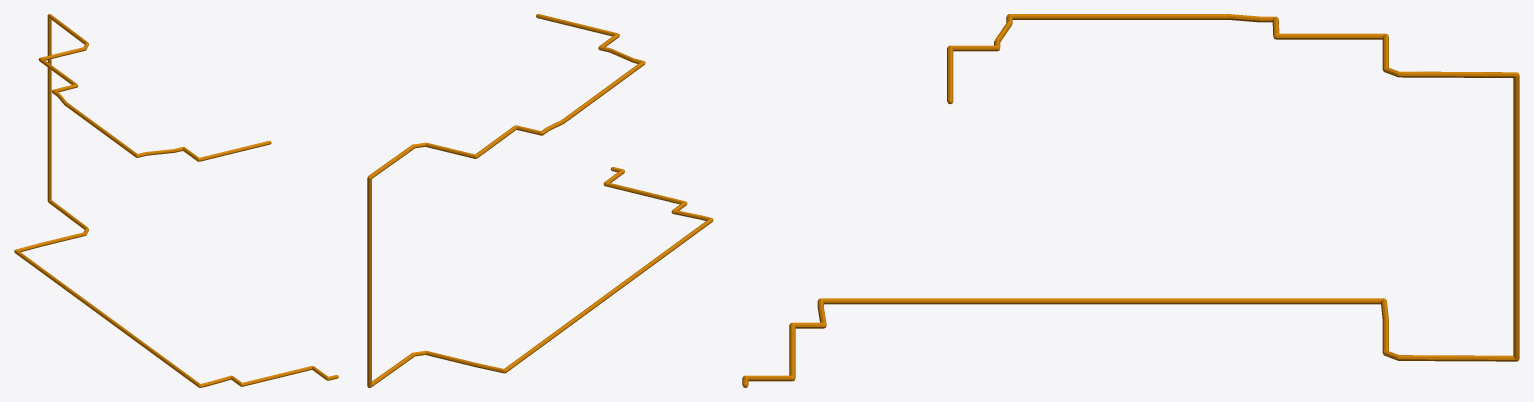
3 renders of one model, left to right at view 1: azimuth 30°, elevation 25°; view 2: azimuth 150°, elevation 25°; view 3: azimuth 270°, elevation 25°, orthographic. The views are drawn at different scales.
Bounding box in the file's own units: 660 × 1020 × 2485.
